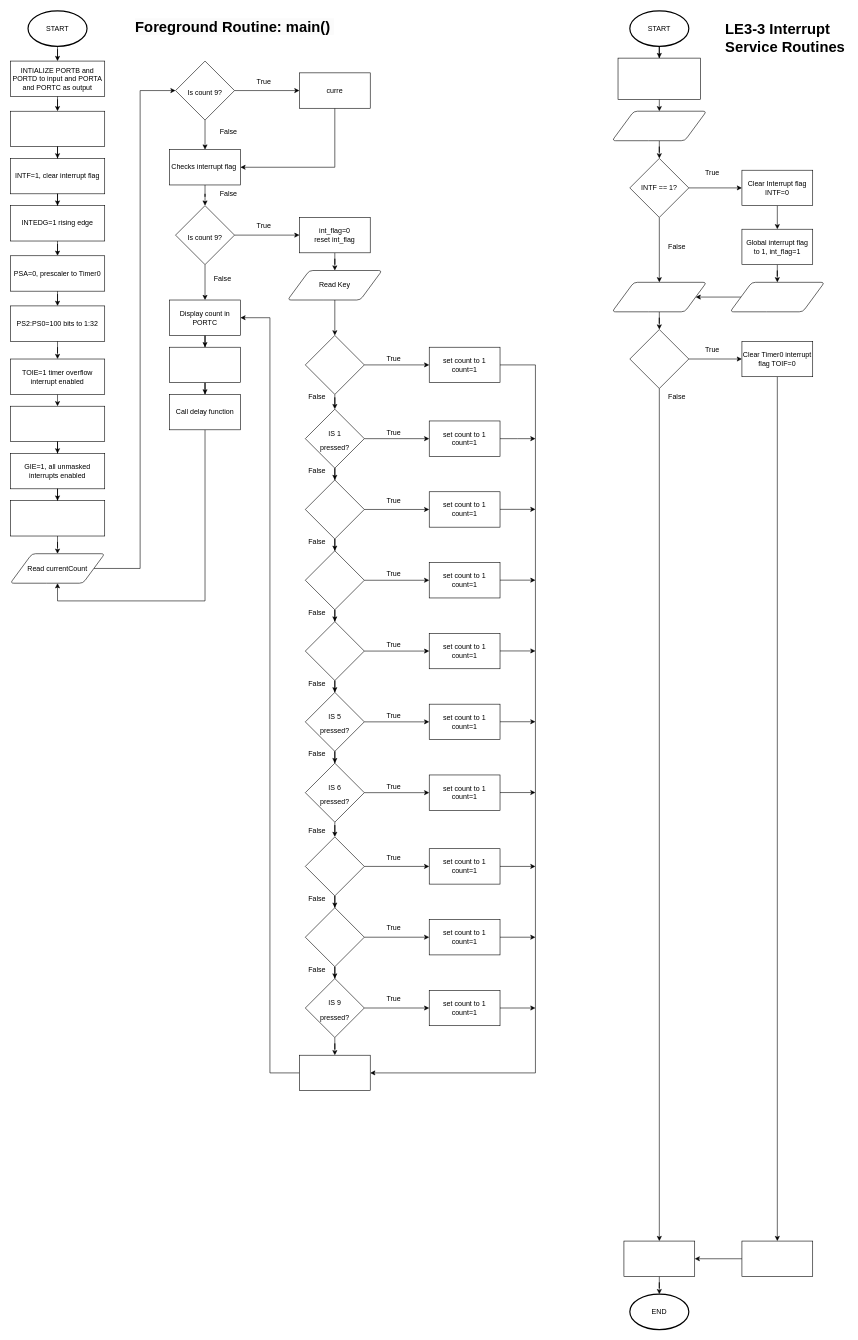
Some shapes in this 858 by 1340 pixel diagram are drawn without their labels. The shapes that lost their labels are listed below. From the top down, each one's centre as x and y in pixels, then its label:
At (x=659, y=78): "GIE=0".
At (x=57, y=129): "INTE=1, enable external interrupt".
At (x=659, y=126): "Check interrupt flag".
At (x=659, y=297): "Check interrupt flag for Timer0".
At (x=777, y=297): "Key=PORTD&0x0F".
At (x=204, y=365): "Count++".
At (x=334, y=364): "IS 0 pressed?".
At (x=659, y=359): "TOIF == 1?".
At (x=57, y=424): "TOIF=1, clear interrupt flag".
At (x=57, y=518): "count=0, initialize counter".
At (x=334, y=509): "IS 2 pressed?".
At (x=334, y=580): "IS 3 pressed?".
At (x=334, y=651): "IS 4 pressed?".
At (x=334, y=866): "IS 7 pressed?".
At (x=334, y=937): "IS 8 pressed?".
At (x=334, y=1073): "set count to 0 count=0".
At (x=659, y=1258): "GIE=1, enables all unmasked interrupts".
At (x=777, y=1258): "Set global interrupt flag into 1 count_flag=1".
